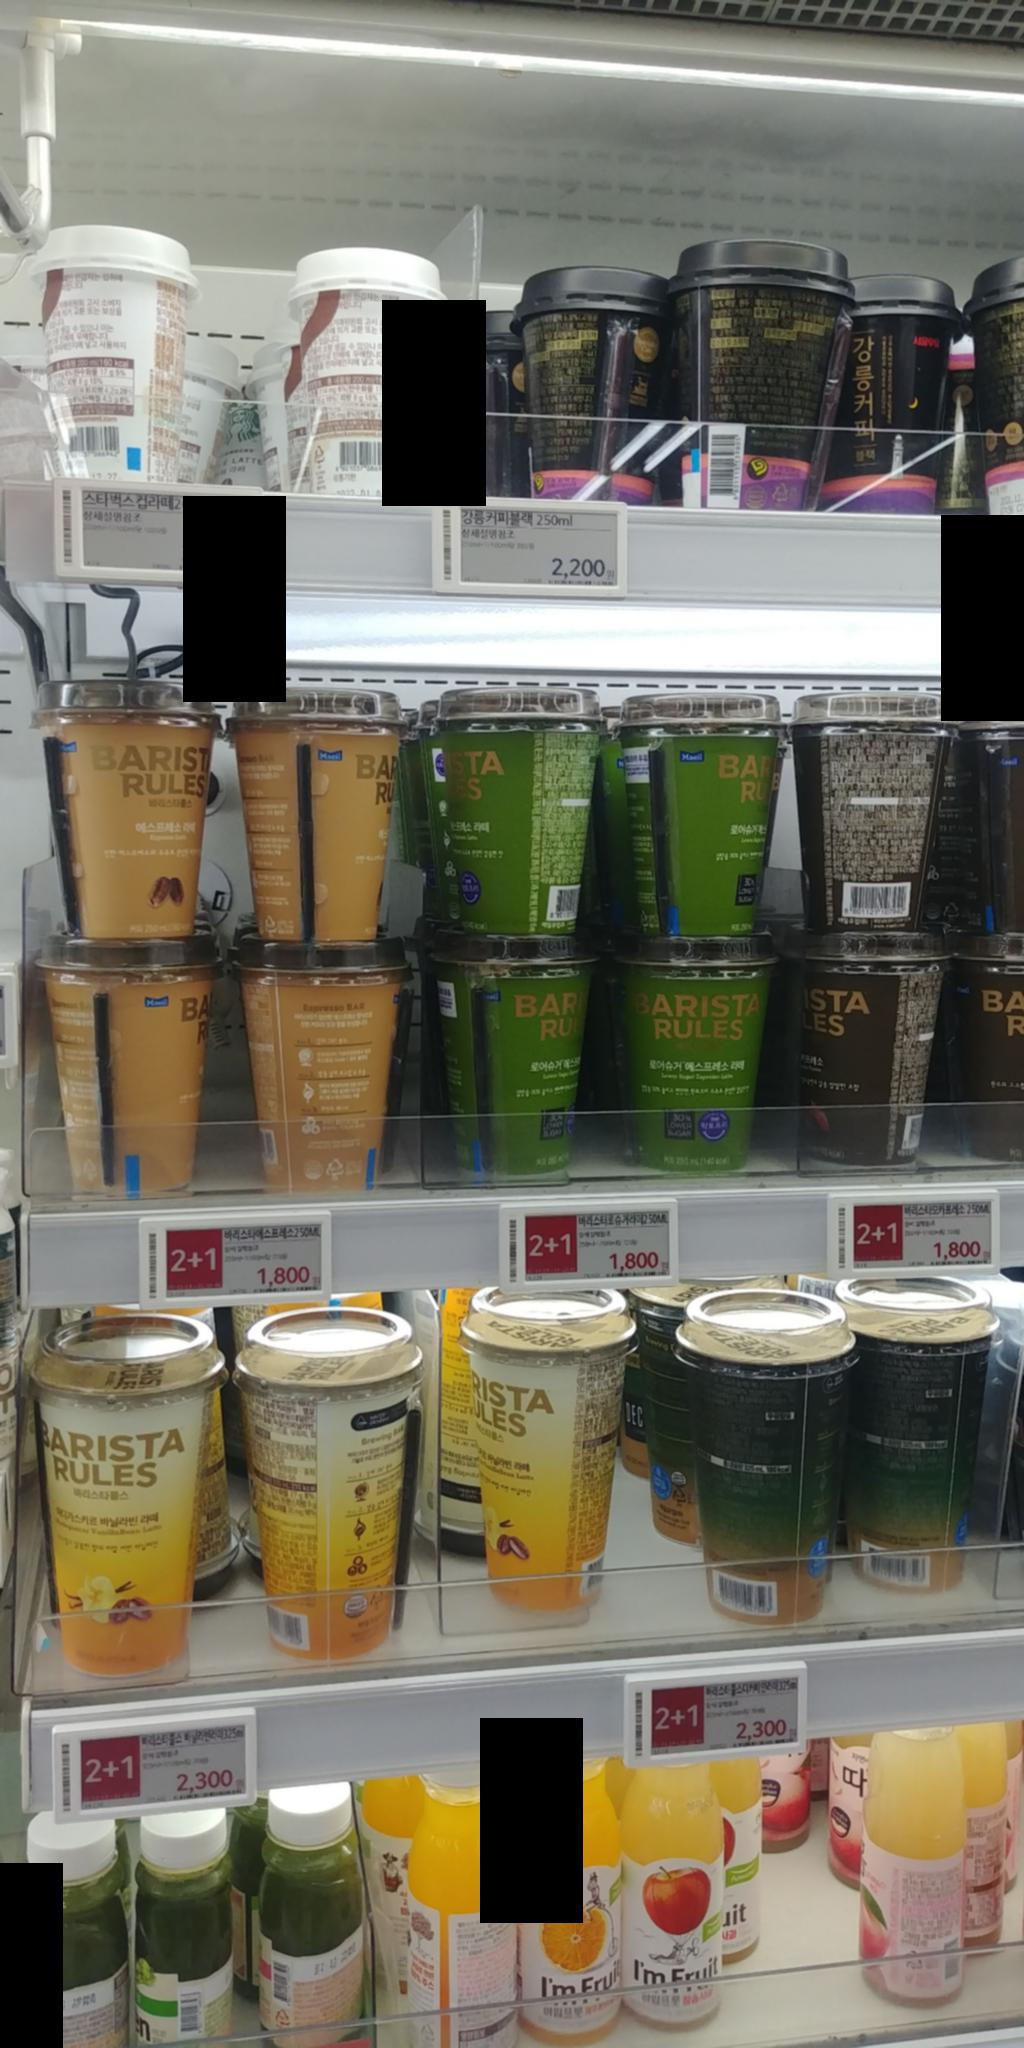baristarules_espressolatte: (39, 660, 218, 940), (235, 691, 393, 947), (64, 938, 212, 1206), (255, 943, 401, 1206)
